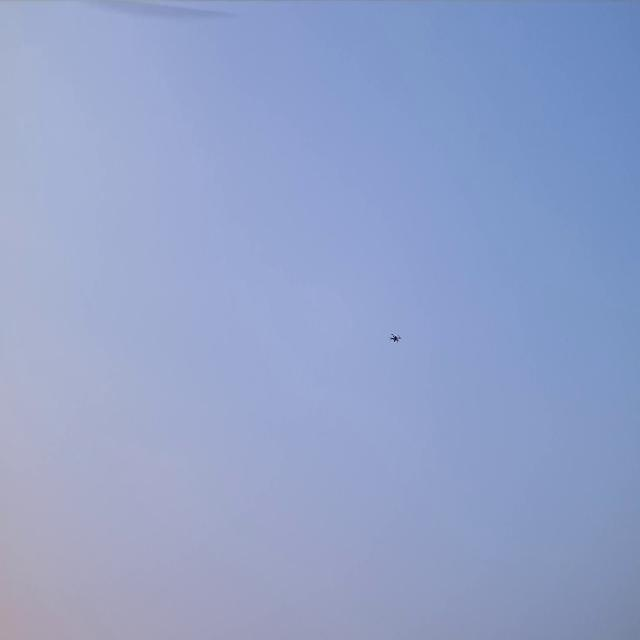UAV: (388, 330, 402, 346)
